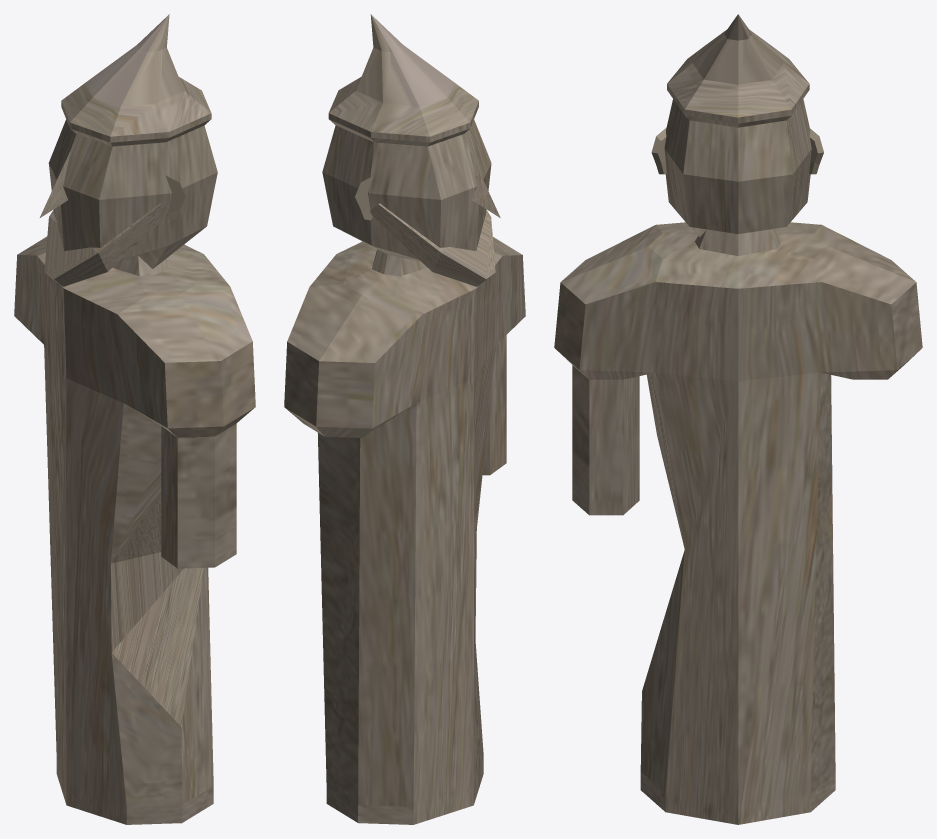
The model's file is Statue8.fbx.
3 renders of one model, left to right at view 1: azimuth 30°, elevation 25°; view 2: azimuth 150°, elevation 25°; view 3: azimuth 270°, elevation 25°, orthographic. The views are drawn at different scales.
Visible parts, largest first — view 1: Circle, Cube.001, Cube, Circle.001; view 2: Circle, Cube.001, Cube, Circle.001; view 3: Circle, Circle.001.
Part boxes in pixels (x1,y1,x2,y2): Circle: [14, 14, 255, 824]; Cube.001: [44, 203, 169, 286]; Cube: [40, 151, 70, 217]; Circle.001: [165, 175, 185, 220]; Circle: [284, 14, 525, 824]; Cube.001: [370, 203, 495, 286]; Cube: [469, 151, 500, 217]; Circle.001: [355, 176, 373, 220]; Circle: [554, 14, 922, 824]; Circle.001: [651, 127, 823, 174].
Bounding box in the file's own units: 48.21 × 212 × 89.1.
